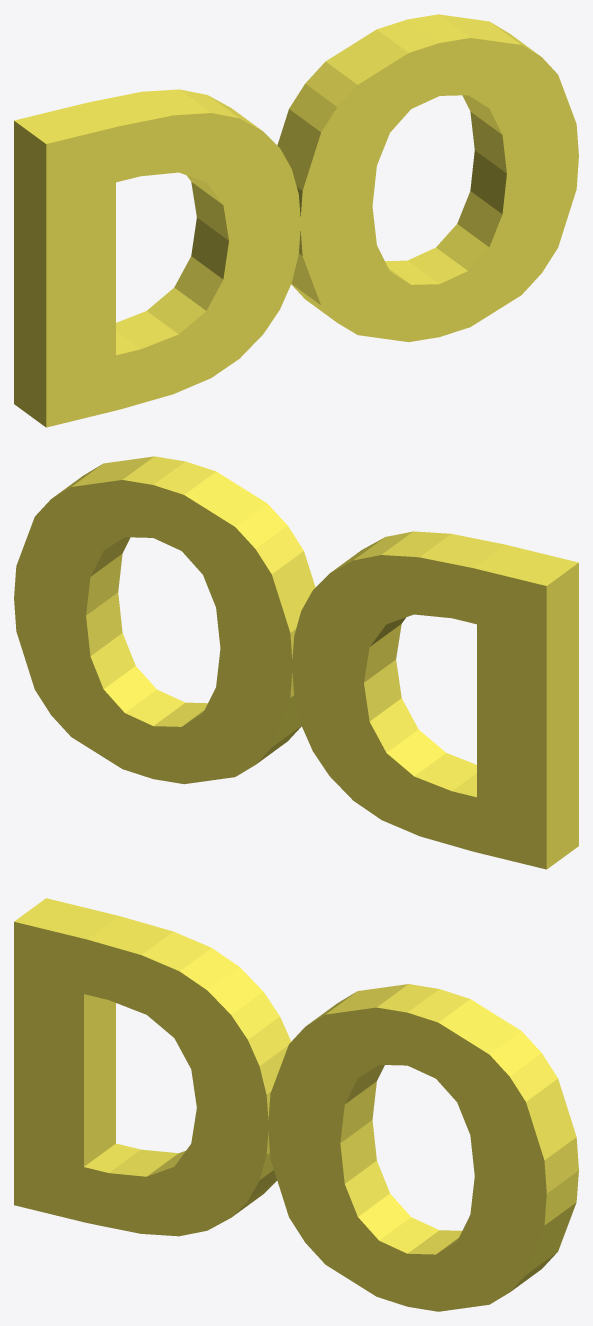
The model's file is suku_besar_do.glb.
The picture shows the model from 3 angles, top to bottom: view 1: azimuth 30°, elevation 25°; view 2: azimuth 150°, elevation 25°; view 3: azimuth 330°, elevation 25°; orthographic projection.
Parts seen in each view (by area): view 1: geometry_0; view 2: geometry_0; view 3: geometry_0.
Boxes of the visible parts, x1=… form: geometry_0: x1=14, y1=14, x2=578, y2=427; geometry_0: x1=14, y1=456, x2=578, y2=869; geometry_0: x1=14, y1=898, x2=578, y2=1311.
Bounding box in the file's own units: 14.34 × 7.56 × 1.5.
